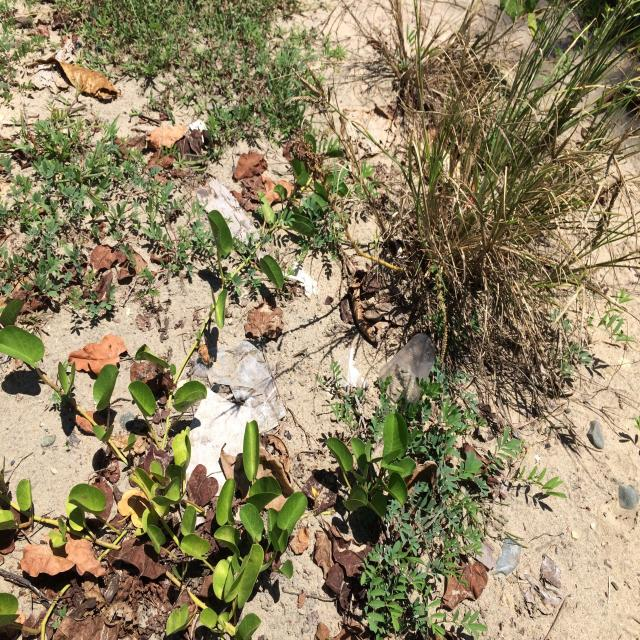litter: (185, 387, 266, 497), (194, 339, 285, 433), (378, 333, 436, 410)
